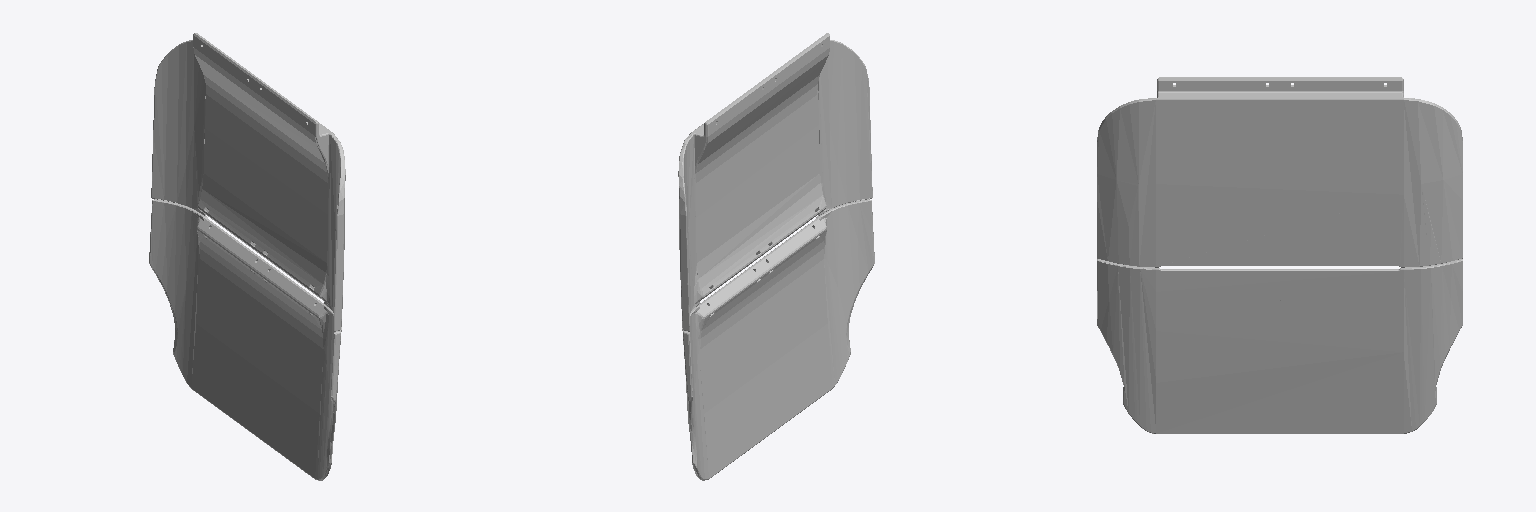
File: body_shoulder_3.obj
3 views of the same model, side by side, from view 1: azimuth 30°, elevation 25°; view 2: azimuth 150°, elevation 25°; view 3: azimuth 270°, elevation 25° (orthographic).
Bounding box in the file's own units: 0.0237 × 0.2536 × 0.236.